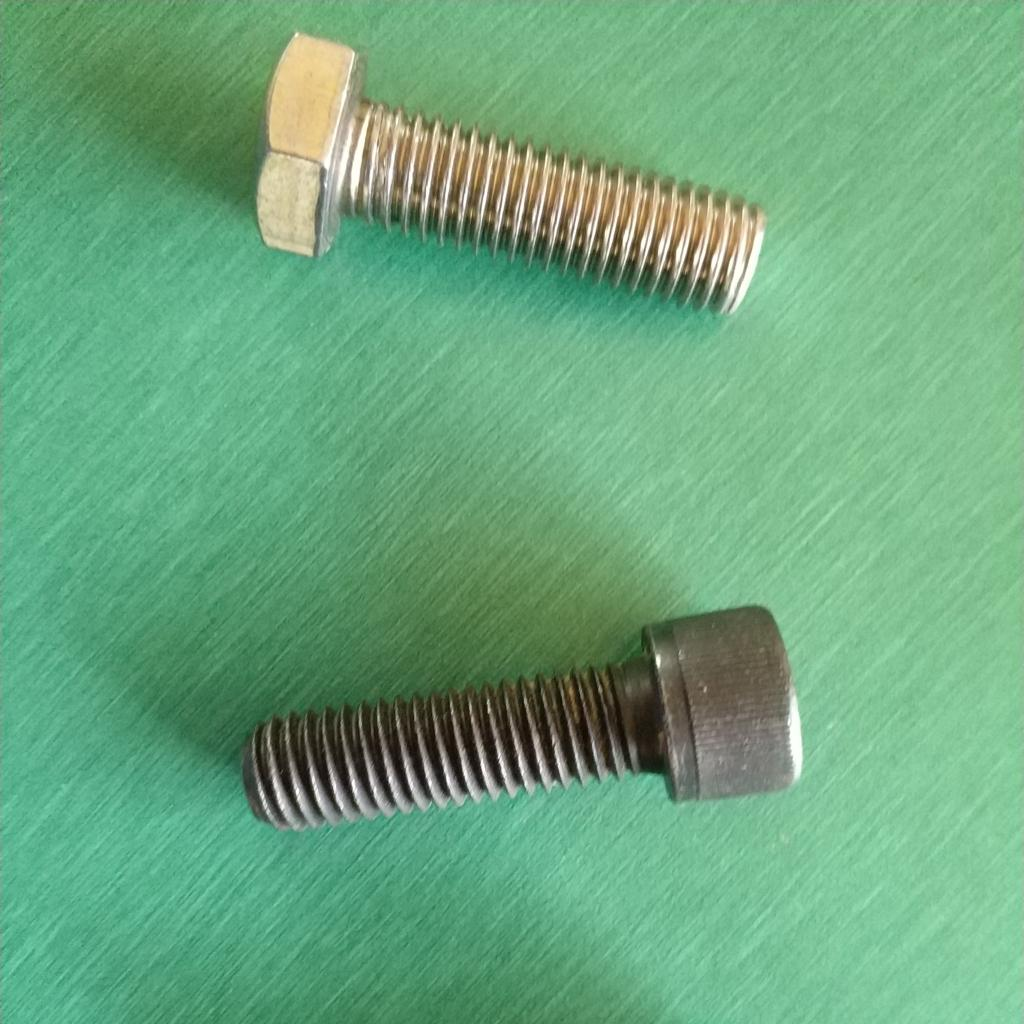screwtype1black: (230, 600, 806, 856)
screwtype2silver: (243, 23, 769, 335)
